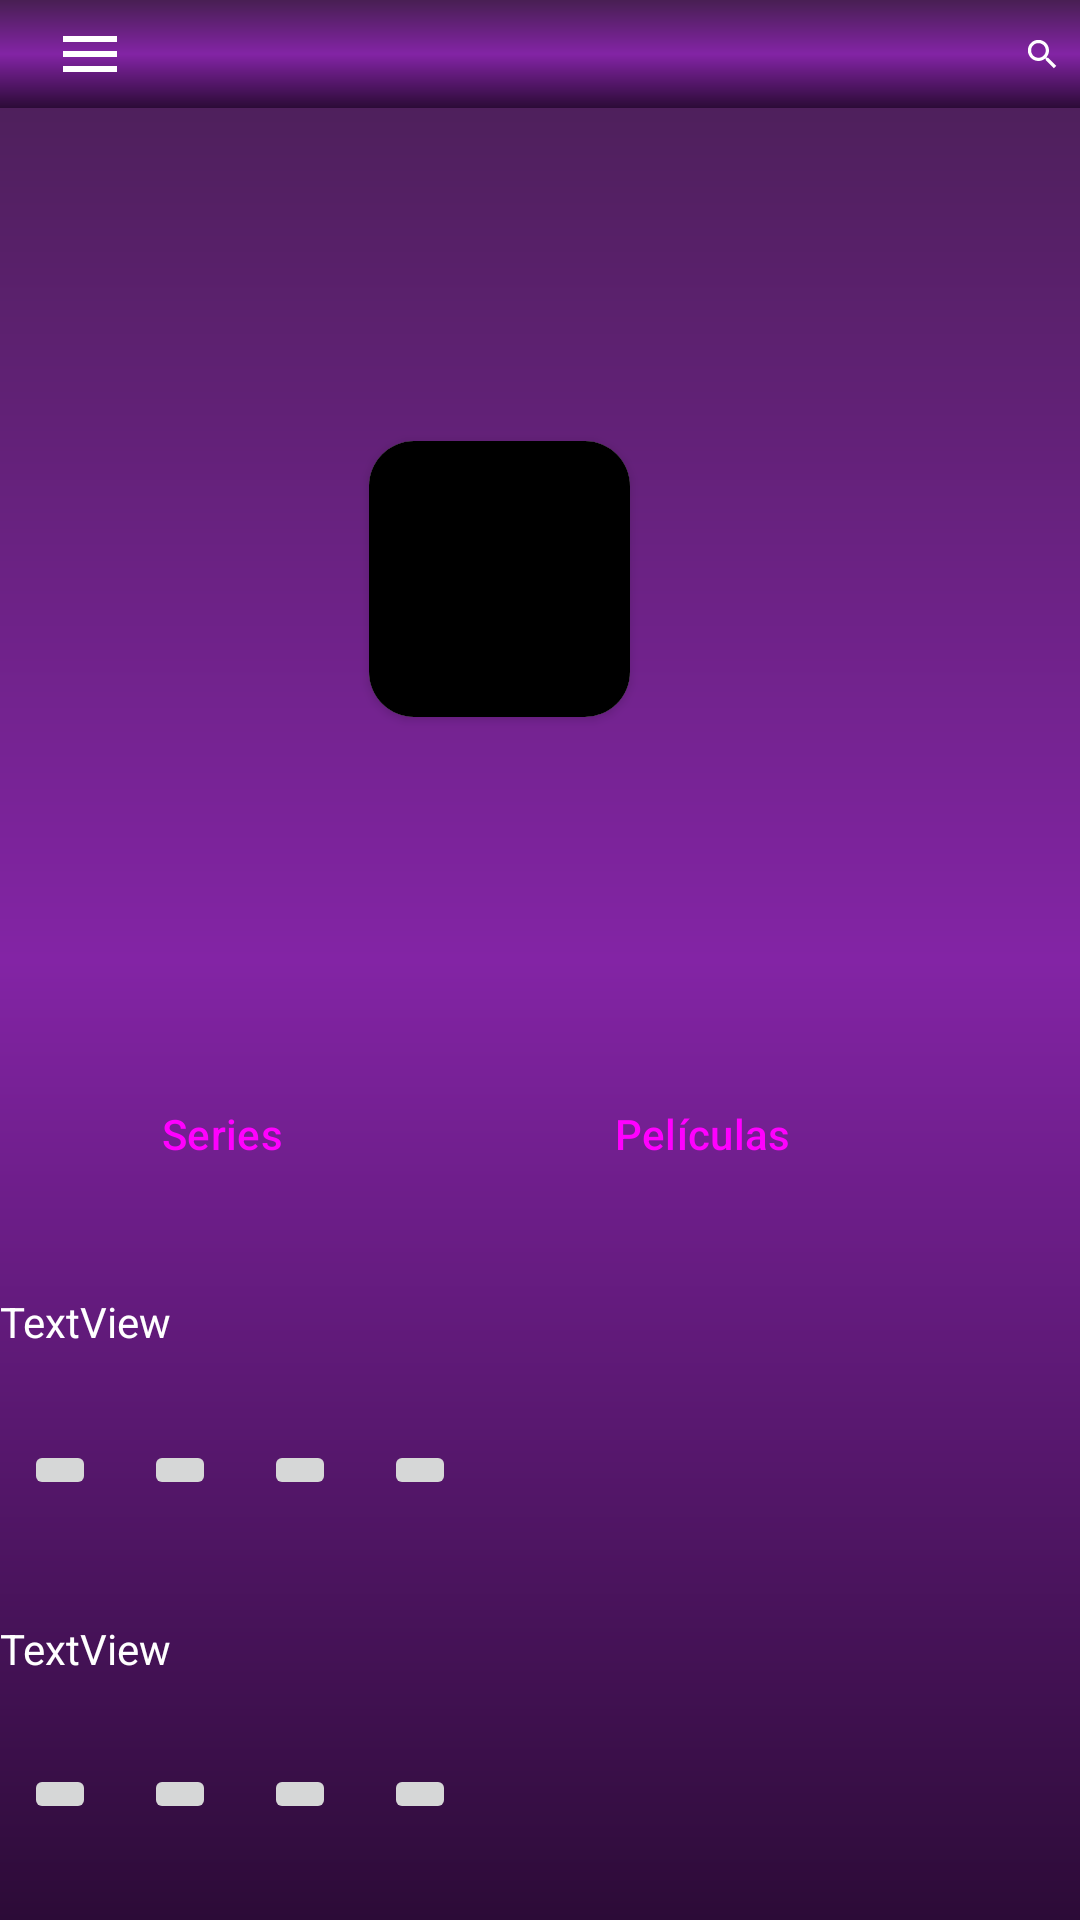

Where to tap for icons on this 1080×1920 app screen, as (x,y):
lupa: (1042,51)
menu: (90,52)
